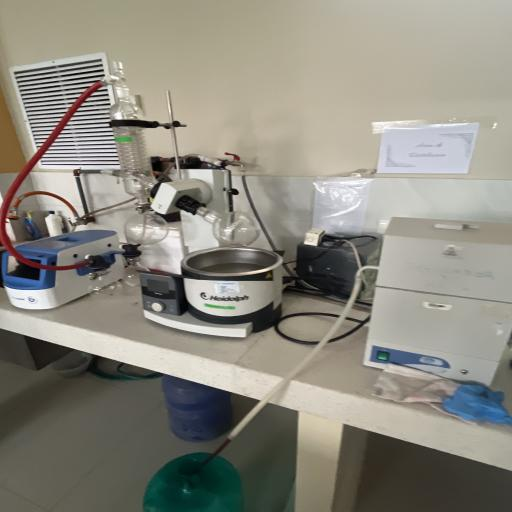Sistema_Rotaevaporacion: (5, 60, 300, 358)
